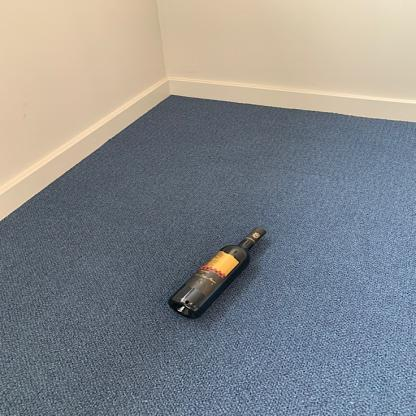trash: (167, 226, 269, 320)
